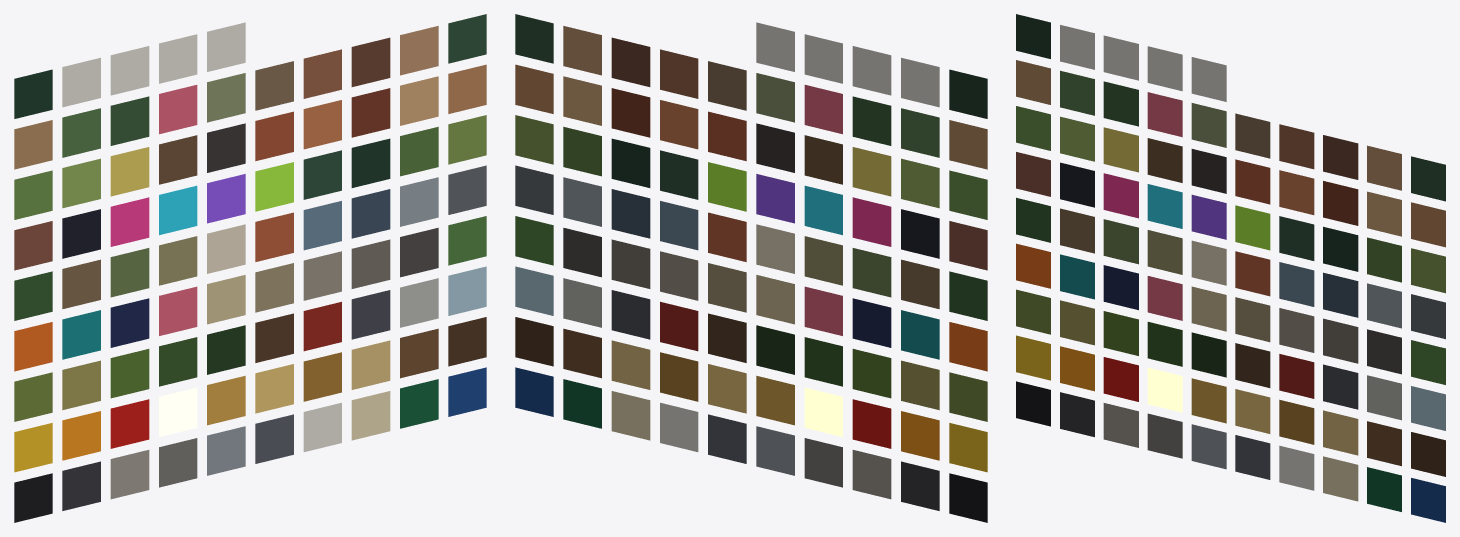
Rendered from calib_swatch.glb.
3 renders of one model, left to right at view 1: azimuth 30°, elevation 25°; view 2: azimuth 150°, elevation 25°; view 3: azimuth 330°, elevation 25°, orthographic. The views are drawn at different scales.
Parts seen in each view (by area): view 1: calib_swatch; view 2: calib_swatch; view 3: calib_swatch.
Part boxes in pixels (x1,y1,x2,y2): calib_swatch: (14, 14, 486, 522); calib_swatch: (515, 14, 987, 522); calib_swatch: (1016, 14, 1445, 522).
Bounding box in the file's own units: 4.9 × 4.4 × 0.
